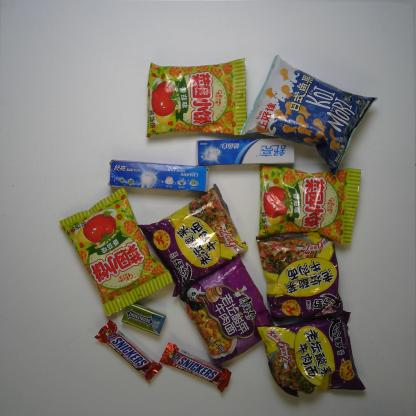Chocolate: (94, 319, 162, 380), (158, 341, 232, 394)
Gum: (120, 300, 166, 336)
Instant Noodles: (134, 182, 247, 296), (178, 255, 278, 366), (252, 310, 367, 398), (256, 230, 352, 324)
Personal Hygiene: (105, 156, 208, 194), (194, 136, 298, 168)
Puffed Food: (236, 54, 378, 170), (60, 187, 172, 316), (257, 164, 362, 248), (146, 59, 252, 140)
